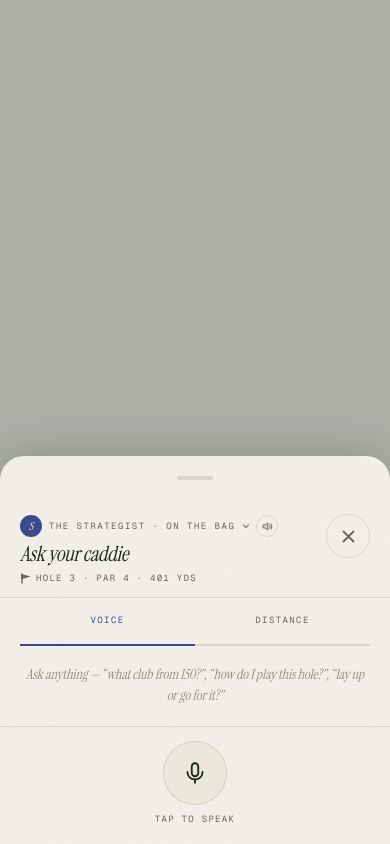
Test case: CaddieSheet — hands-free conversational loop (specs/caddie-conversational-loop-plan.md) › (11) a MANUAL mic tap still clears the persisted answer immediately (no loop-armed carryover)
What coordinates should you click on to do the following:
click the button named "Start recording"
I would click on:
 (195, 772)
Its box is [163,740,227,804].
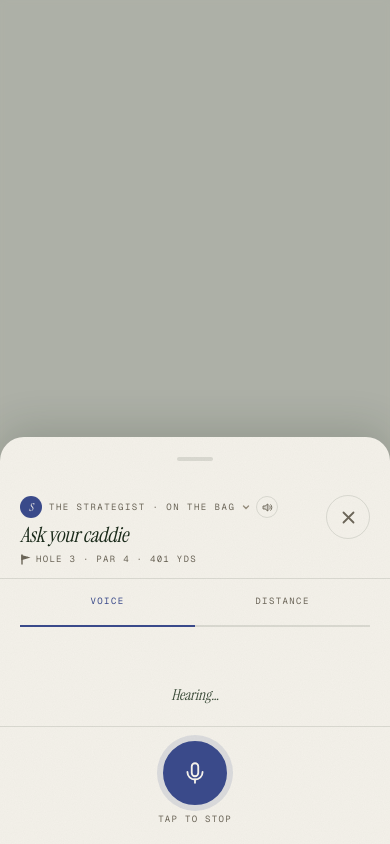
What coordinates should you click on to do the following:
click the button named "Stop recording"
I would click on:
 (195, 772)
Its box is [163,740,227,804].
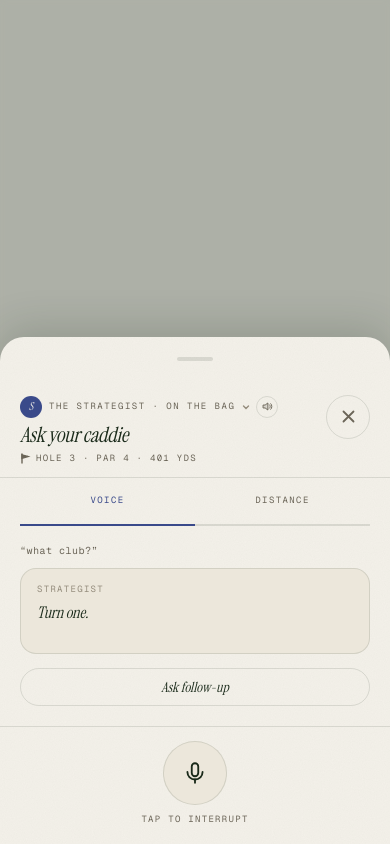
Result: the text "Turn one." is shown at [37,602,88,623]
What coordinates should you click on to do the following:
click the button named "Start recording"
I would click on:
 (195, 772)
Its box is [163,740,227,804].
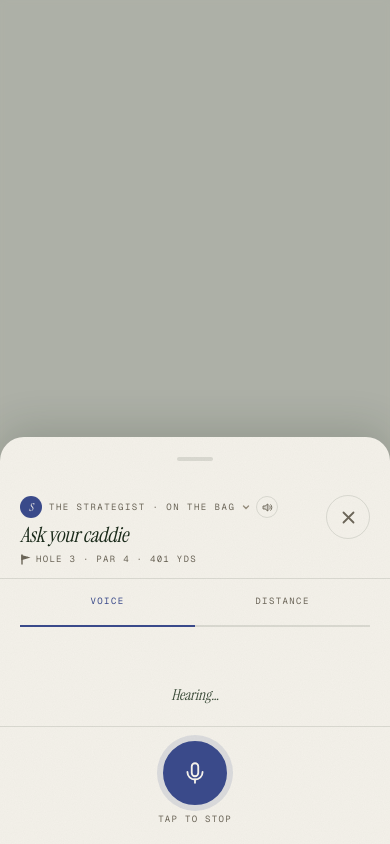
Result: the button named "Stop recording" is shown at [163,740,227,804]
Result: the text "Turn one." is gone
